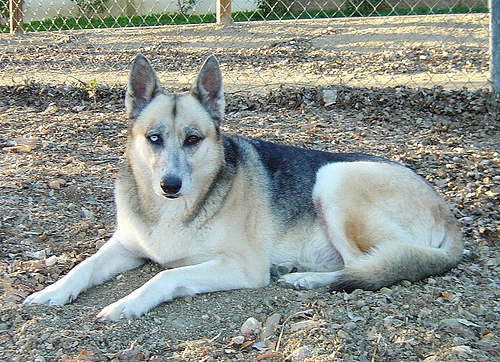dog: (19, 49, 466, 324)
